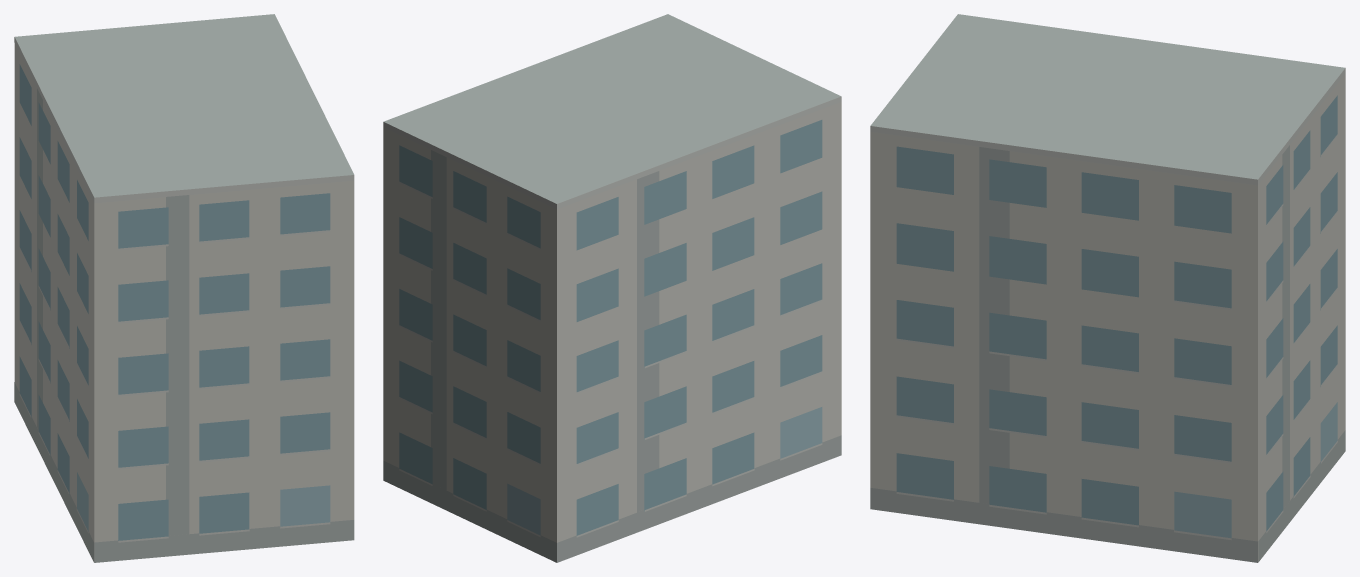
The model's file is survey-upis-33042268.glb.
3 views of the same model, side by side, from view 1: azimuth 30°, elevation 25°; view 2: azimuth 150°, elevation 25°; view 3: azimuth 270°, elevation 25° (orthographic). The views are drawn at different scales.
Visible parts, largest first — view 1: survey-upis-33042268.tmp; view 2: survey-upis-33042268.tmp; view 3: survey-upis-33042268.tmp.
Boxes of the visible parts, x1,y1,x2,y2 form: survey-upis-33042268.tmp: (14,14,354,562); survey-upis-33042268.tmp: (383,14,841,562); survey-upis-33042268.tmp: (870,14,1345,562).
Size of the model in its own units: 14.74 by 15.9 by 17.88.
